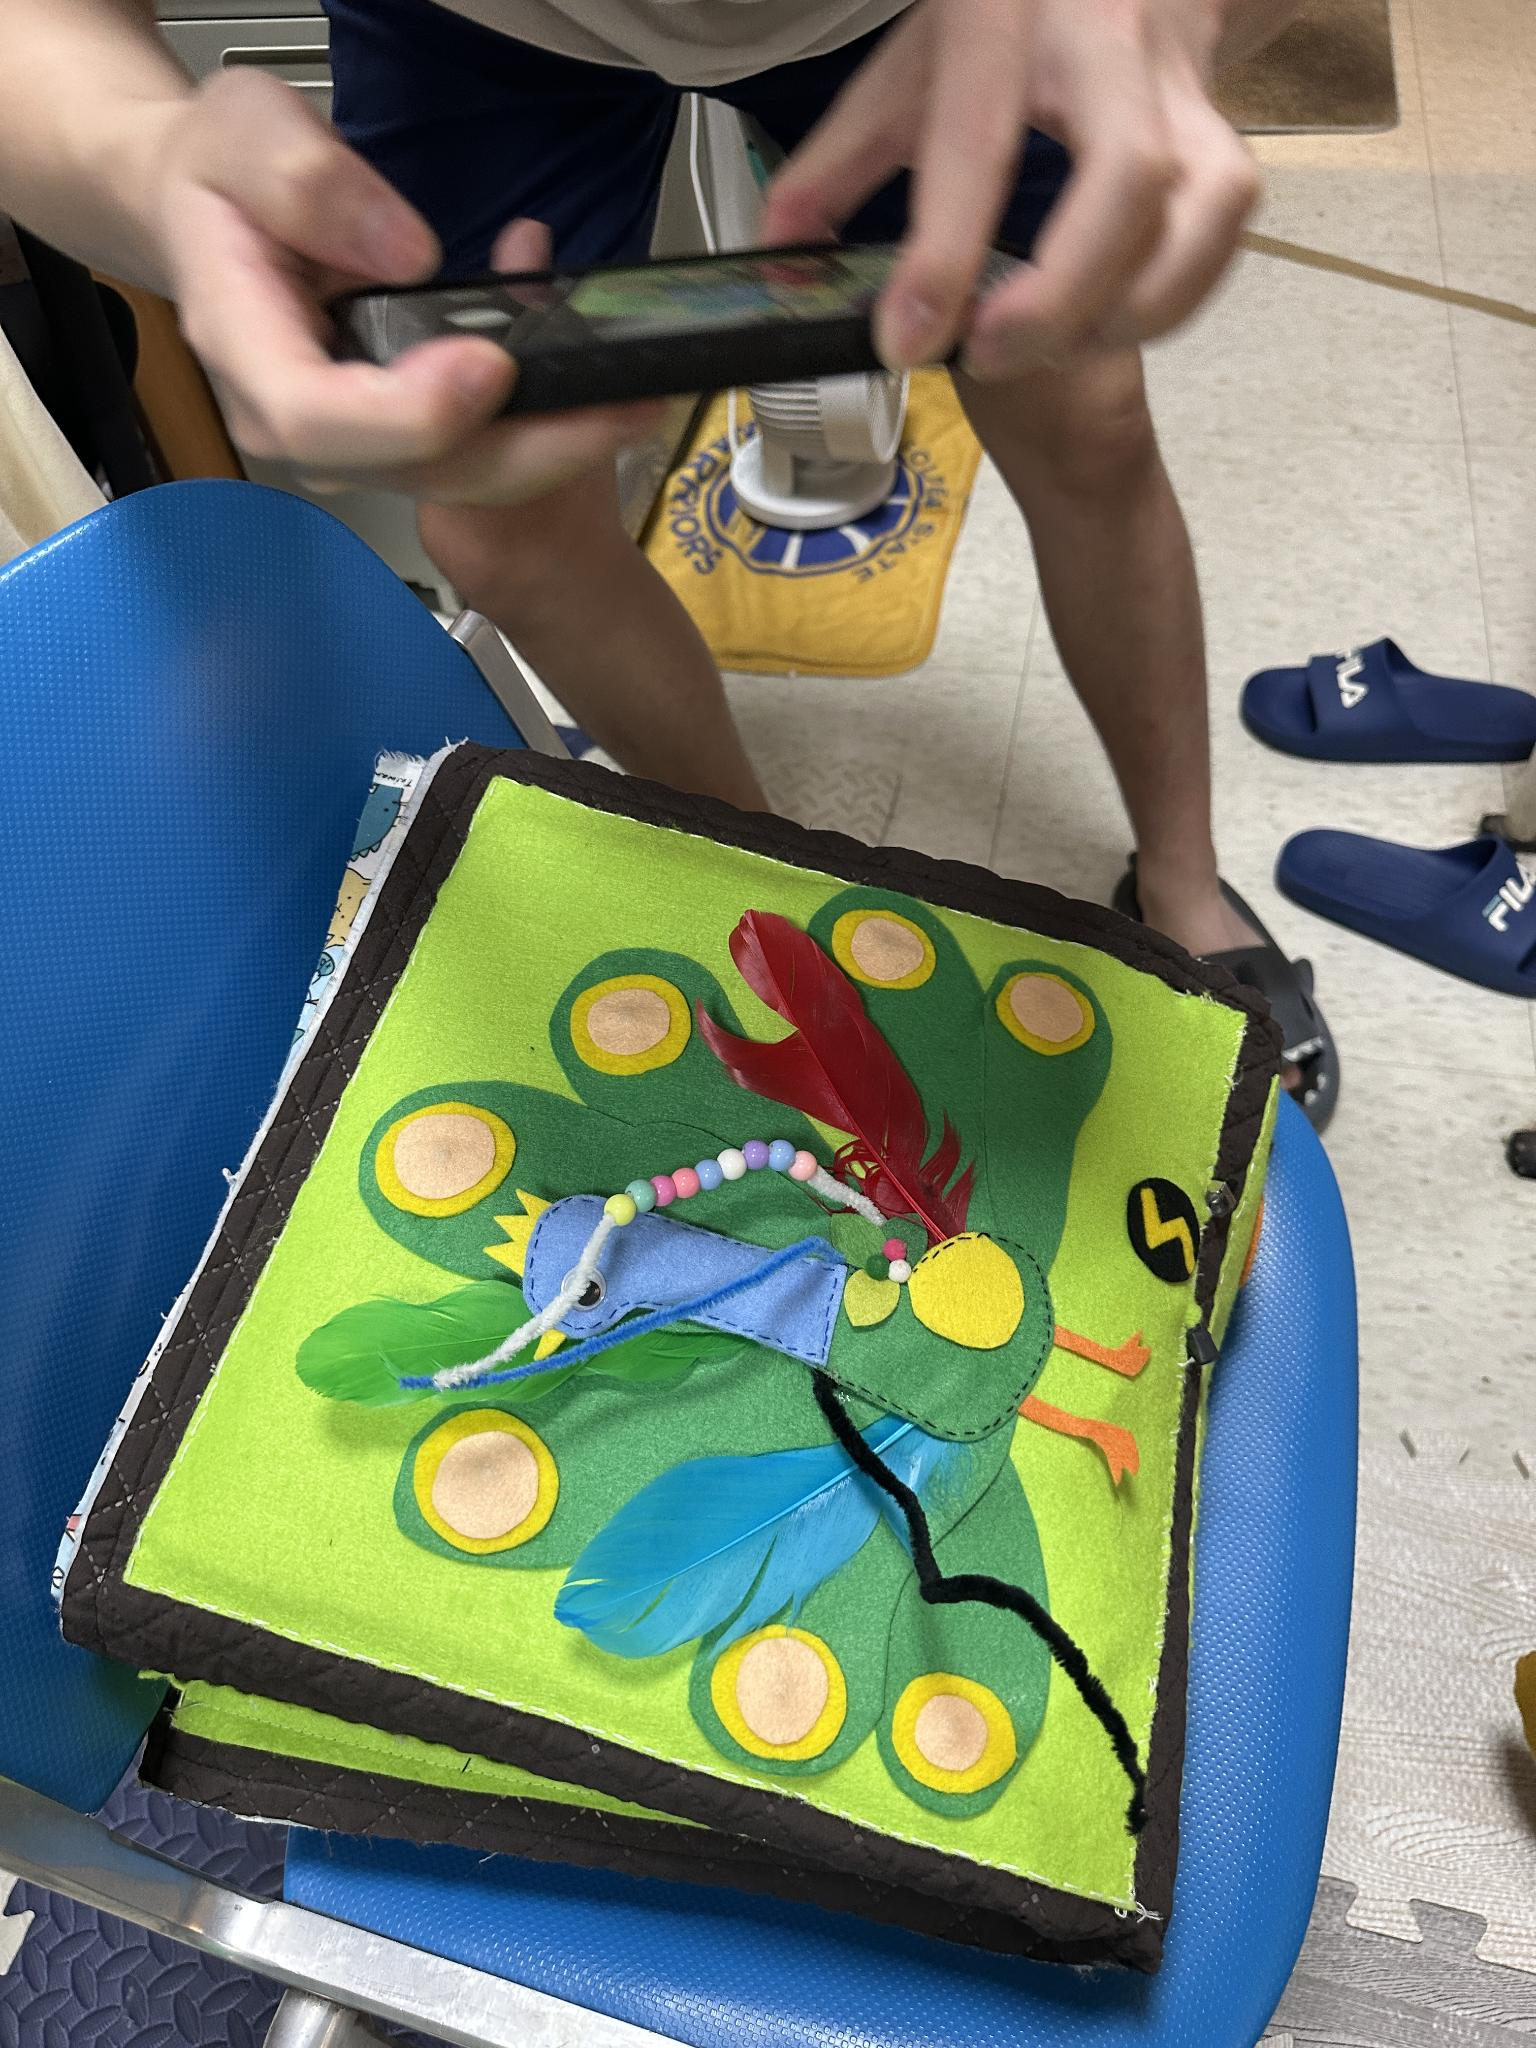bead: (797, 1145, 821, 1190), (628, 1177, 657, 1214), (605, 1187, 634, 1221), (671, 1163, 697, 1200), (770, 1137, 794, 1176), (742, 1137, 771, 1169), (694, 1158, 721, 1187), (720, 1150, 745, 1180), (650, 1169, 670, 1203)
